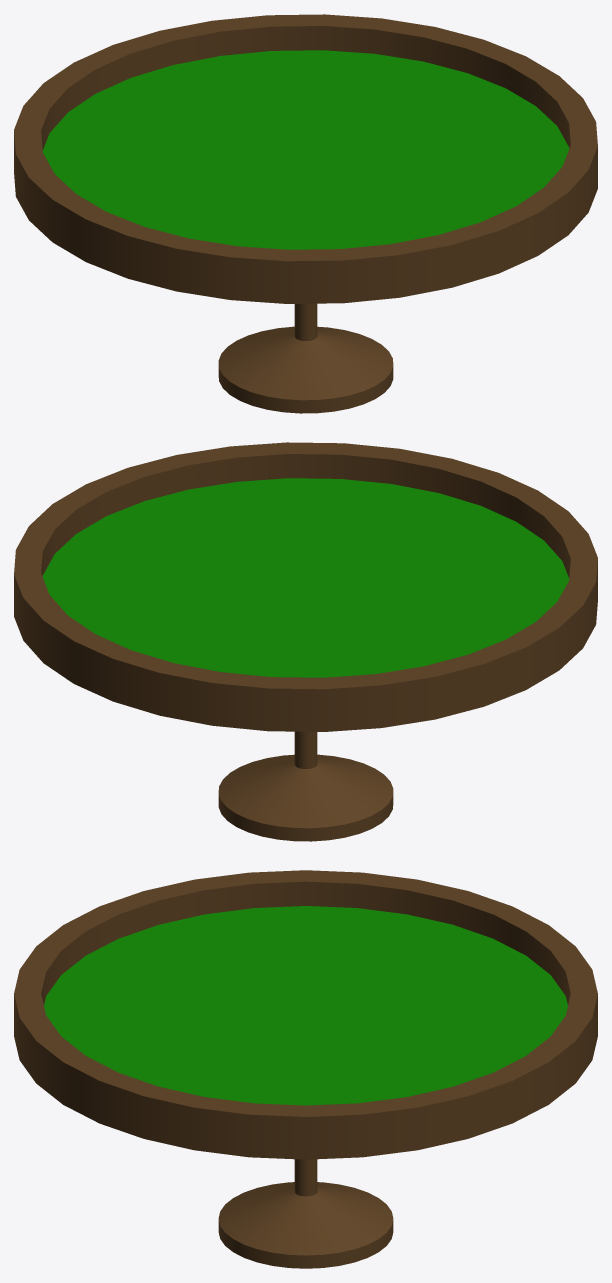
Rendered from Mesa_Dados.obj.
3 views of the same model, one above another, from view 1: azimuth 30°, elevation 25°; view 2: azimuth 150°, elevation 25°; view 3: azimuth 270°, elevation 25° (orthographic).
Visible parts, largest first — view 1: Mesa_Dados; view 2: Mesa_Dados; view 3: Mesa_Dados.
Part boxes in pixels (left/top/right/bottom): Mesa_Dados: left=14, top=14, right=597, bottom=413; Mesa_Dados: left=14, top=442, right=597, bottom=841; Mesa_Dados: left=14, top=870, right=597, bottom=1268.
Size of the model in its own units: 2 by 0.9 by 2.
Materials: 2 (2 with a texture image).
